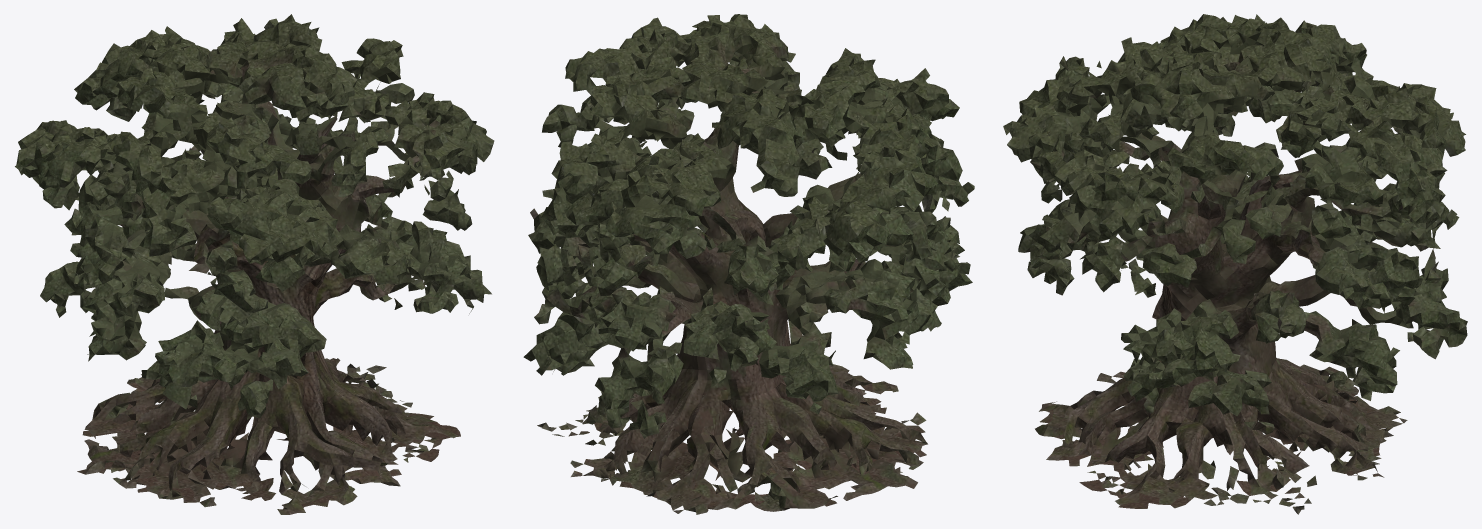
3 views of the same model, side by side, from view 1: azimuth 30°, elevation 25°; view 2: azimuth 150°, elevation 25°; view 3: azimuth 270°, elevation 25° (orthographic). The views are drawn at different scales.
Size of the model in its own units: 1.84 by 1.75 by 1.88.
Materials: 1 (1 with a texture image).
